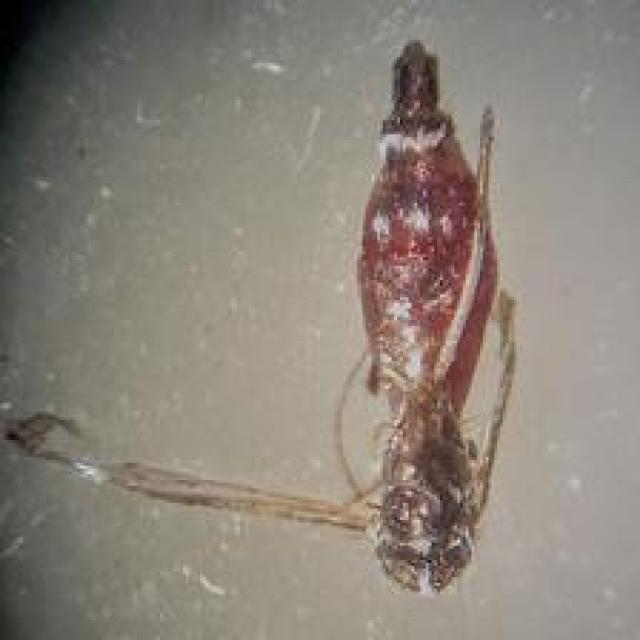Aedes albopictus: (0, 37, 520, 597)
